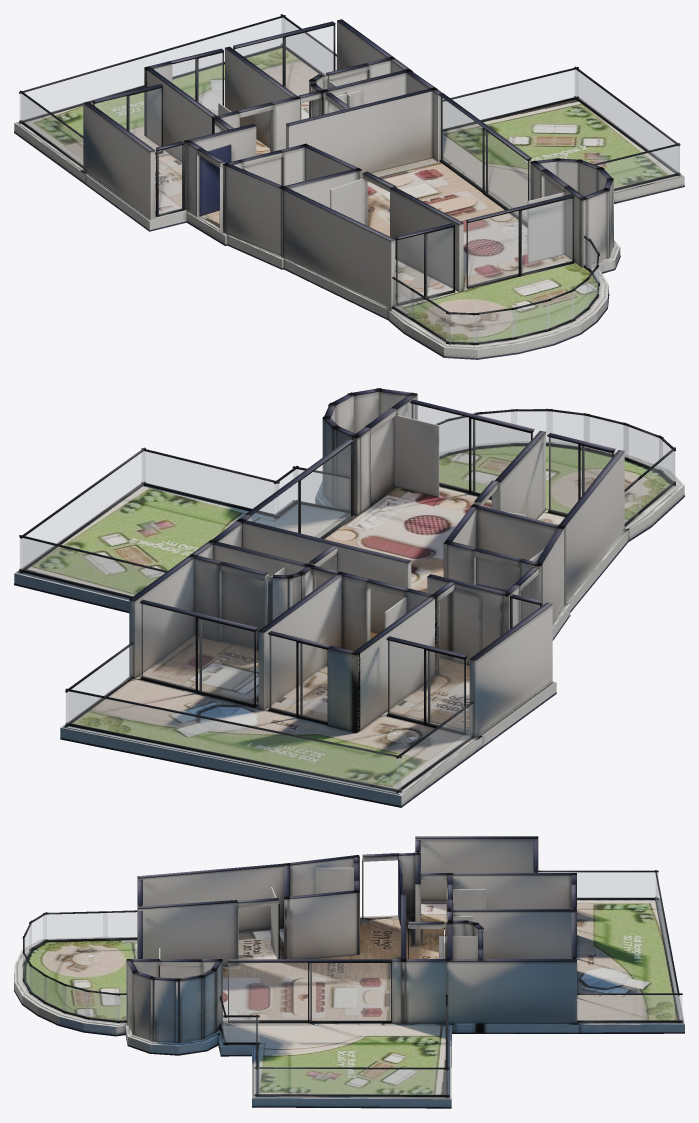
3 renders of one model, top to bottom at view 1: azimuth 30°, elevation 25°; view 2: azimuth 150°, elevation 25°; view 3: azimuth 270°, elevation 25°, orthographic. The views are drawn at different scales.
Parts seen in each view (by area): view 1: plan, glass5_m, railg0_m, glass6_m, glass1_m, railg5_m, glass4_m, railg8_m, glass2_m, glass0_m, railg6_m, railg4_m (+8 smaller); view 2: plan, railg0_m, glass1_m, glass2_m, glass5_m, glass6_m, railg6_m, railg5_m, glass0_m, railg8_m, glass4_m, railg4_m (+9 smaller); view 3: plan, glass6_m, railg8_m, railg2_m, railg4_m, railg17_m, railg1_m, railg10_m, railg18_m, railg11_m, railg12_m, railg0_m (+2 smaller).
Boxes of the visible parts, x1=… form: plan: x1=14, y1=14, x2=684, y2=359; glass5_m: x1=467, y1=199, x2=572, y2=286; railg0_m: x1=19, y1=18, x2=284, y2=120; glass6_m: x1=440, y1=97, x2=529, y2=221; glass1_m: x1=234, y1=26, x2=333, y2=95; railg5_m: x1=443, y1=70, x2=577, y2=128; glass4_m: x1=397, y1=228, x2=452, y2=303; railg8_m: x1=575, y1=70, x2=679, y2=173; glass2_m: x1=94, y1=88, x2=161, y2=151; glass0_m: x1=172, y1=53, x2=222, y2=115; railg6_m: x1=597, y1=146, x2=679, y2=188; railg4_m: x1=21, y1=94, x2=82, y2=165; plan: x1=14, y1=388, x2=684, y2=807; railg0_m: x1=66, y1=691, x2=401, y2=789; glass1_m: x1=141, y1=604, x2=256, y2=704; glass2_m: x1=388, y1=640, x2=466, y2=731; glass5_m: x1=411, y1=404, x2=530, y2=493; glass6_m: x1=251, y1=444, x2=350, y2=537; railg6_m: x1=142, y1=451, x2=278, y2=515; railg5_m: x1=20, y1=538, x2=164, y2=596; glass0_m: x1=269, y1=635, x2=327, y2=721; railg8_m: x1=21, y1=451, x2=144, y2=570; glass4_m: x1=548, y1=437, x2=611, y2=514; railg4_m: x1=397, y1=705, x2=472, y2=790; plan: x1=14, y1=836, x2=684, y2=1108; glass6_m: x1=228, y1=963, x2=390, y2=1020; railg8_m: x1=254, y1=1069, x2=448, y2=1094; railg2_m: x1=577, y1=995, x2=682, y2=1020; railg4_m: x1=539, y1=872, x2=658, y2=897; railg17_m: x1=43, y1=913, x2=107, y2=939; railg1_m: x1=223, y1=1017, x2=259, y2=1042; railg10_m: x1=85, y1=992, x2=119, y2=1020; railg18_m: x1=103, y1=912, x2=136, y2=938; railg11_m: x1=62, y1=985, x2=89, y2=1017; railg12_m: x1=44, y1=976, x2=66, y2=1011; railg0_m: x1=656, y1=879, x2=678, y2=1017.
Bounding box in the file's own units: 15.73 × 2.62 × 22.15.
Materials: 2 (1 with a texture image).
